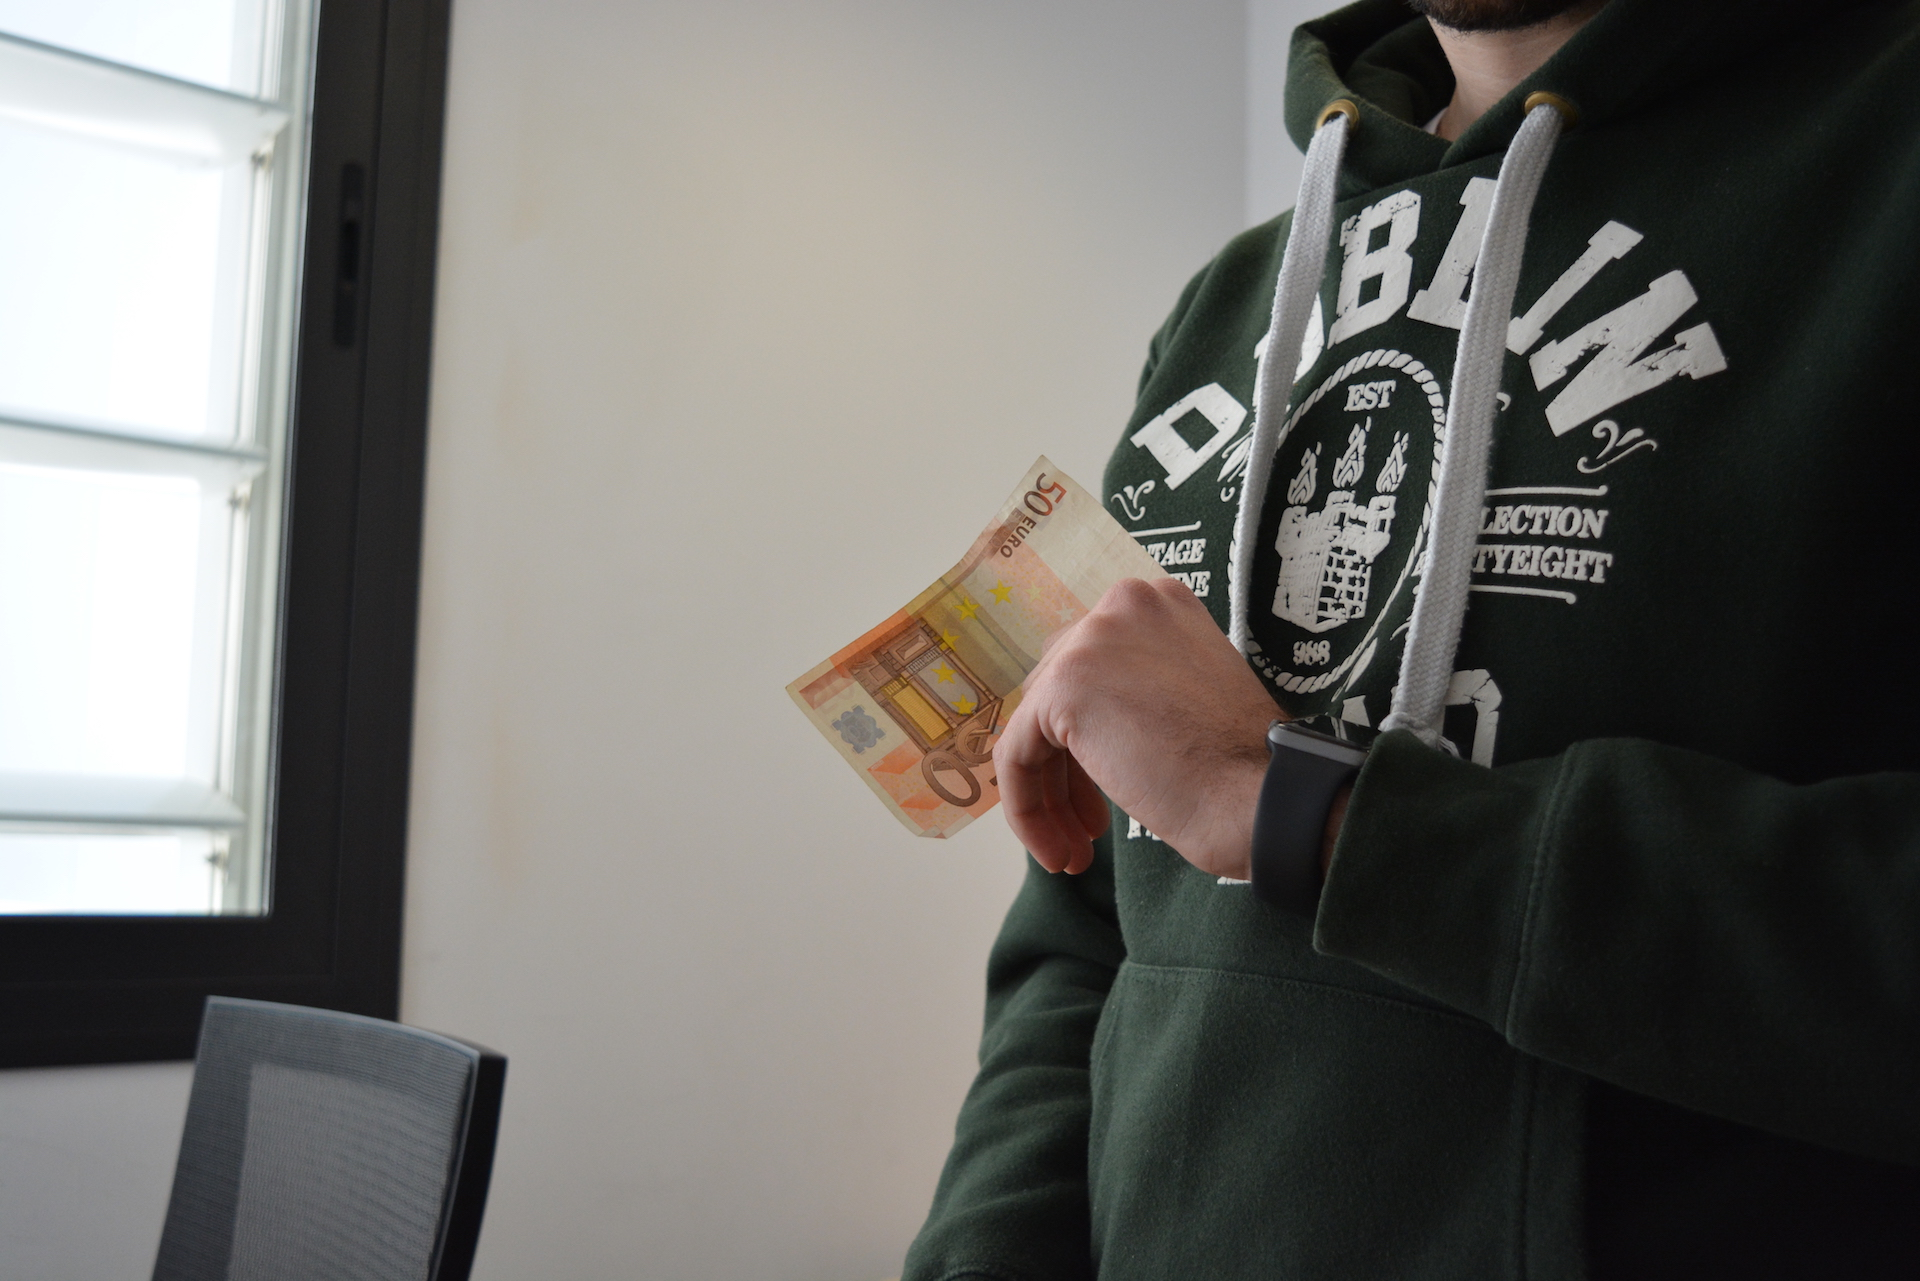billete: (781, 450, 1177, 841)
